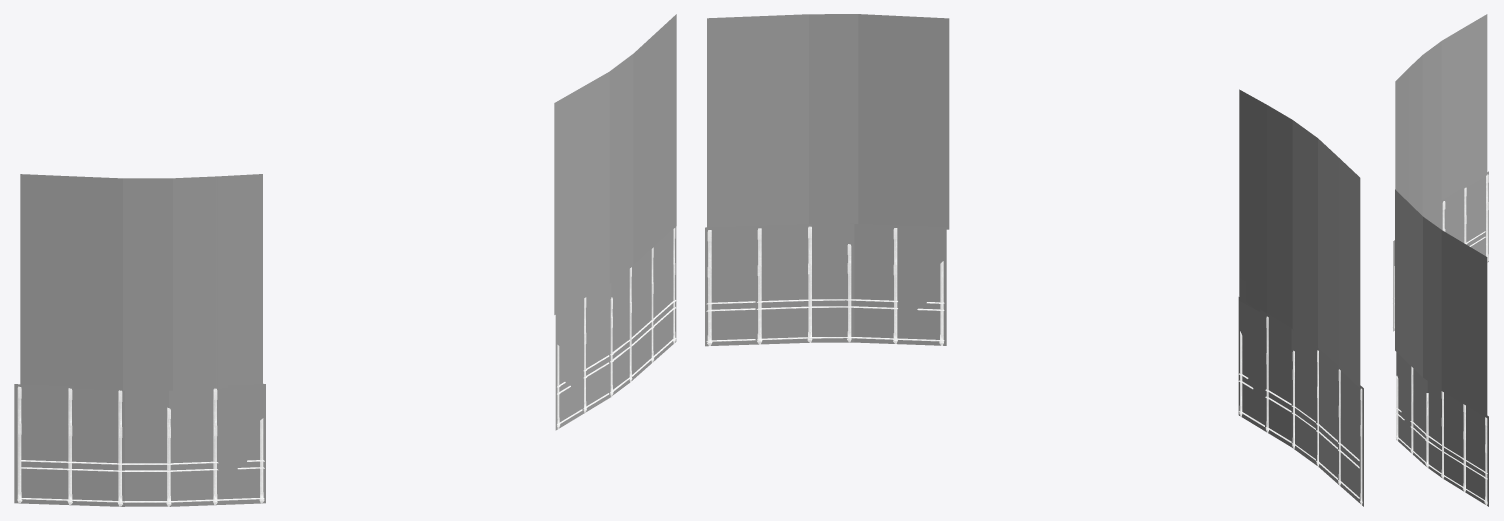
File: P_BossAtriumCircleRailing_Down02.fbx
3 views of the same model, side by side, from view 1: azimuth 30°, elevation 25°; view 2: azimuth 150°, elevation 25°; view 3: azimuth 270°, elevation 25° (orthographic). The views are drawn at different scales.
Visible parts, largest first — view 1: P_BossAtriumCircleRailing_Down02; view 2: P_BossAtriumCircleRailing_Down02; view 3: P_BossAtriumCircleRailing_Down02.
Part boxes in pixels (x1,y1,x2,y2): P_BossAtriumCircleRailing_Down02: [14, 14, 676, 506]; P_BossAtriumCircleRailing_Down02: [705, 14, 1363, 506]; P_BossAtriumCircleRailing_Down02: [1392, 14, 1489, 506].
Bounding box in the file's own units: 2552 × 1212 × 428.
